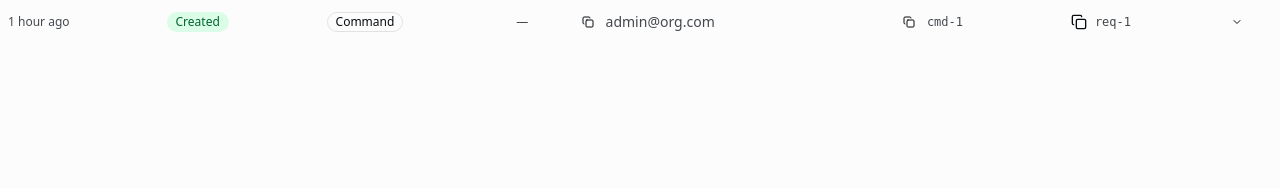
Test: AuditLogRow › should expand metadata details on click
Click the button: (640, 22) [0,0,1279,44]
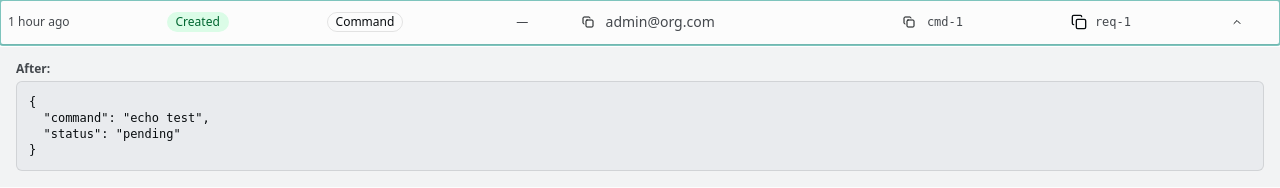
Now the text "After:" is shown, box [16,60,50,77]
Now the text "{ \"command\": \"echo test\", \"status\": \"pending\" }" is shown, box [16,81,1264,171]
